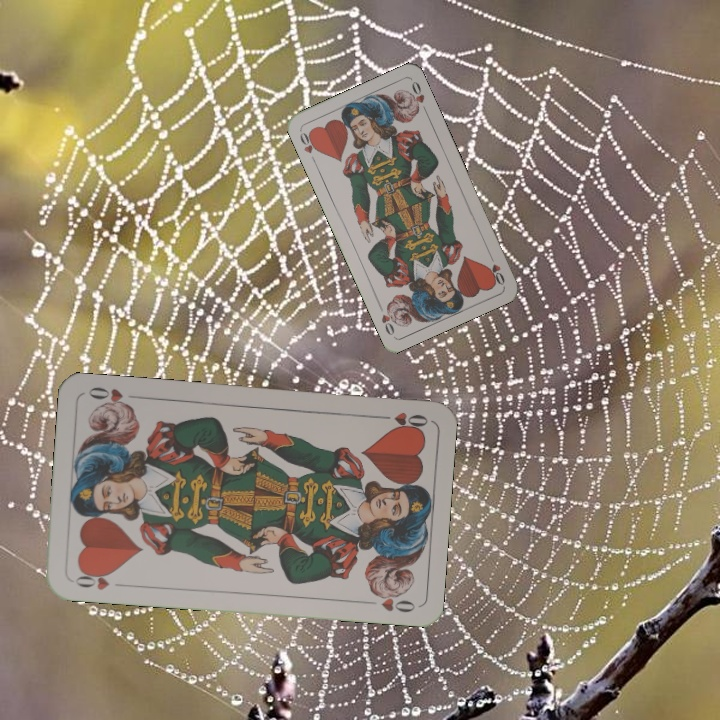HO: (372, 407, 431, 432), (71, 566, 116, 593), (296, 128, 321, 165), (484, 249, 507, 288)
